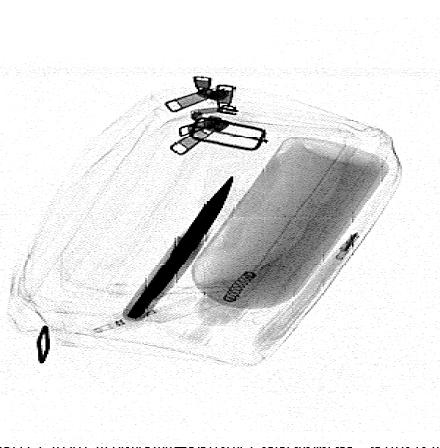Pliers: (126, 174, 235, 320)
